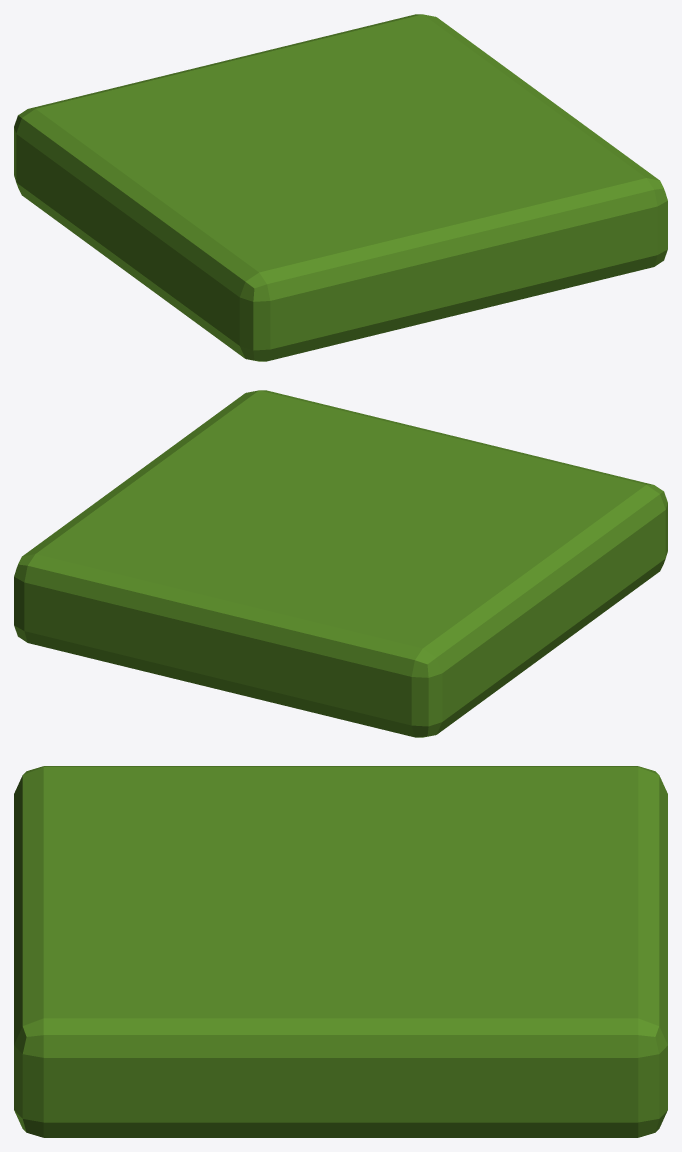
Rendered from GrassTop2.glb.
3 renders of one model, top to bottom at view 1: azimuth 30°, elevation 25°; view 2: azimuth 150°, elevation 25°; view 3: azimuth 270°, elevation 25°, orthographic. The views are drawn at different scales.
Parts seen in each view (by area): view 1: Top_Big_0_5; view 2: Top_Big_0_5; view 3: Top_Big_0_5.
Boxes of the visible parts, left/top/right/bottom form: Top_Big_0_5: left=14, top=14, right=667, bottom=361; Top_Big_0_5: left=14, top=390, right=667, bottom=737; Top_Big_0_5: left=14, top=766, right=667, bottom=1137.
Bounding box in the file's own units: 2.2 × 0.44 × 2.2.
Materials: 1 (1 with a texture image).
